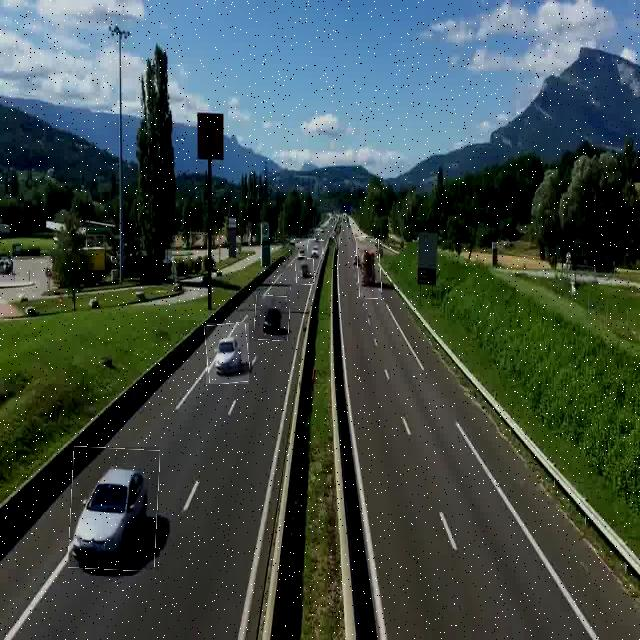Car: (70, 447, 159, 570), (206, 323, 249, 384), (254, 295, 290, 341), (296, 257, 314, 285), (308, 240, 324, 259)
Truck: (357, 236, 381, 299)
